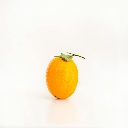orange: (44, 51, 85, 101)
